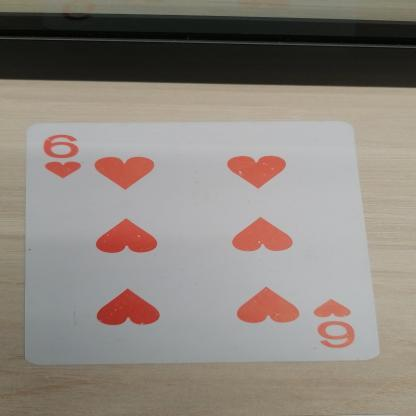6H: (308, 296, 382, 359), (32, 132, 98, 182)
